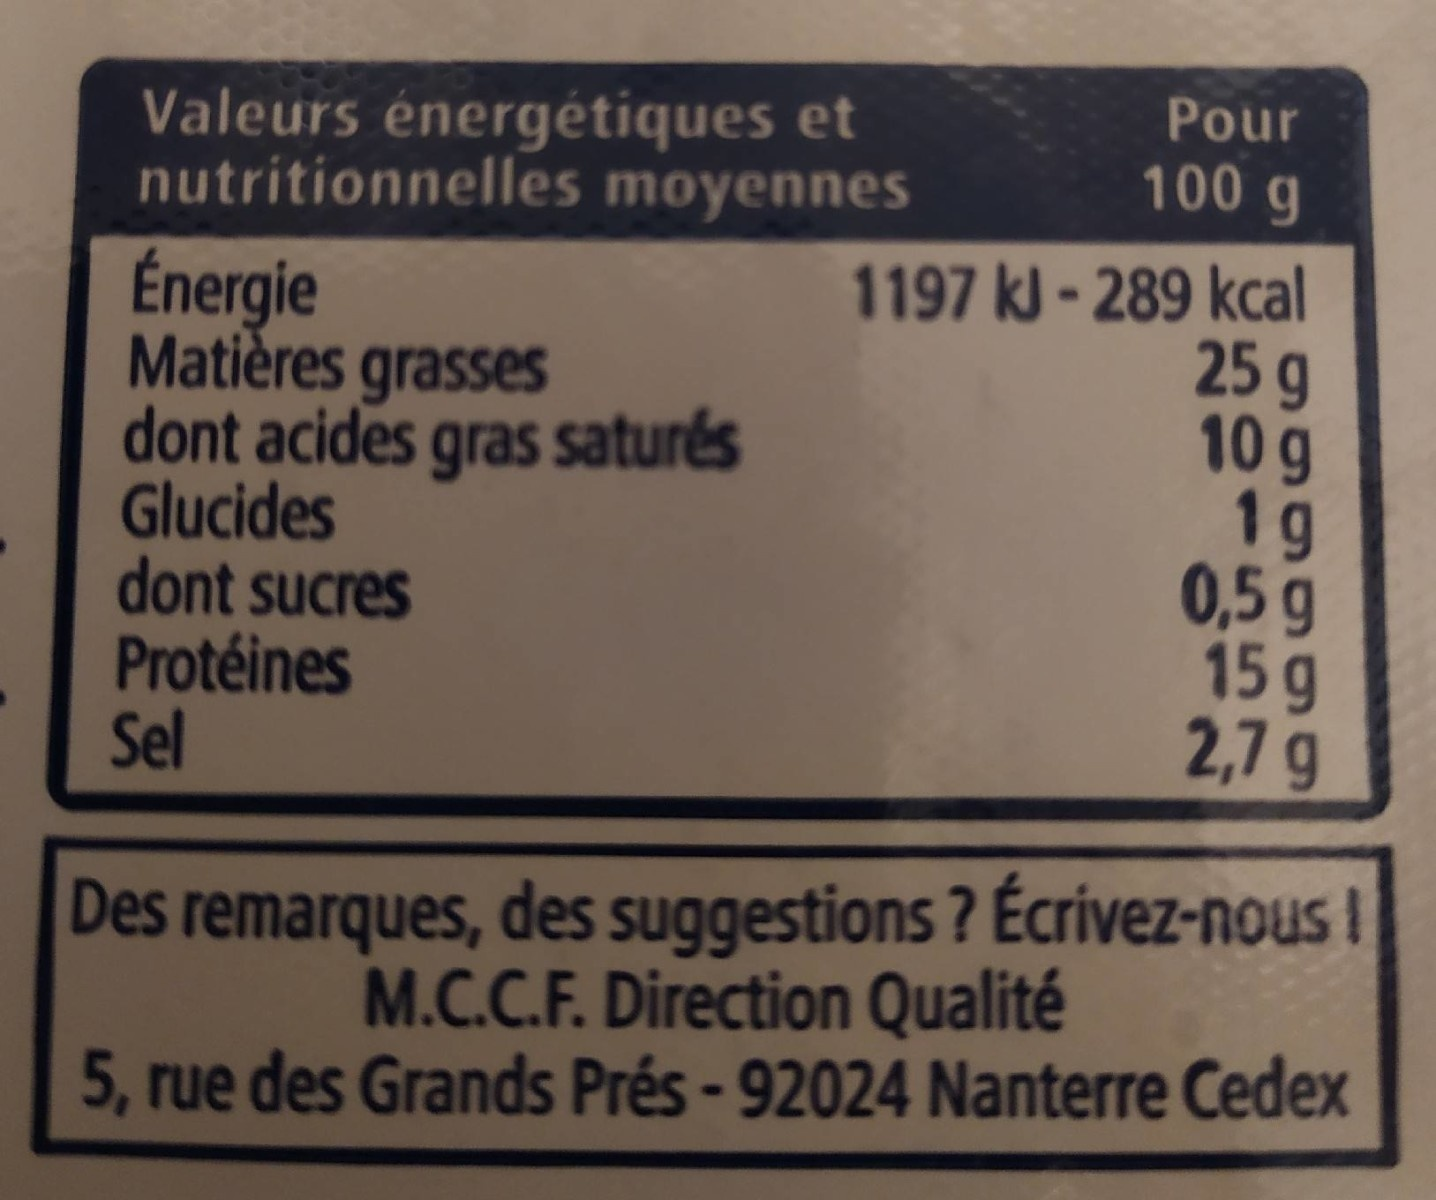column: (111, 237, 744, 779), (848, 237, 1319, 790)
table: (42, 61, 1389, 819)
